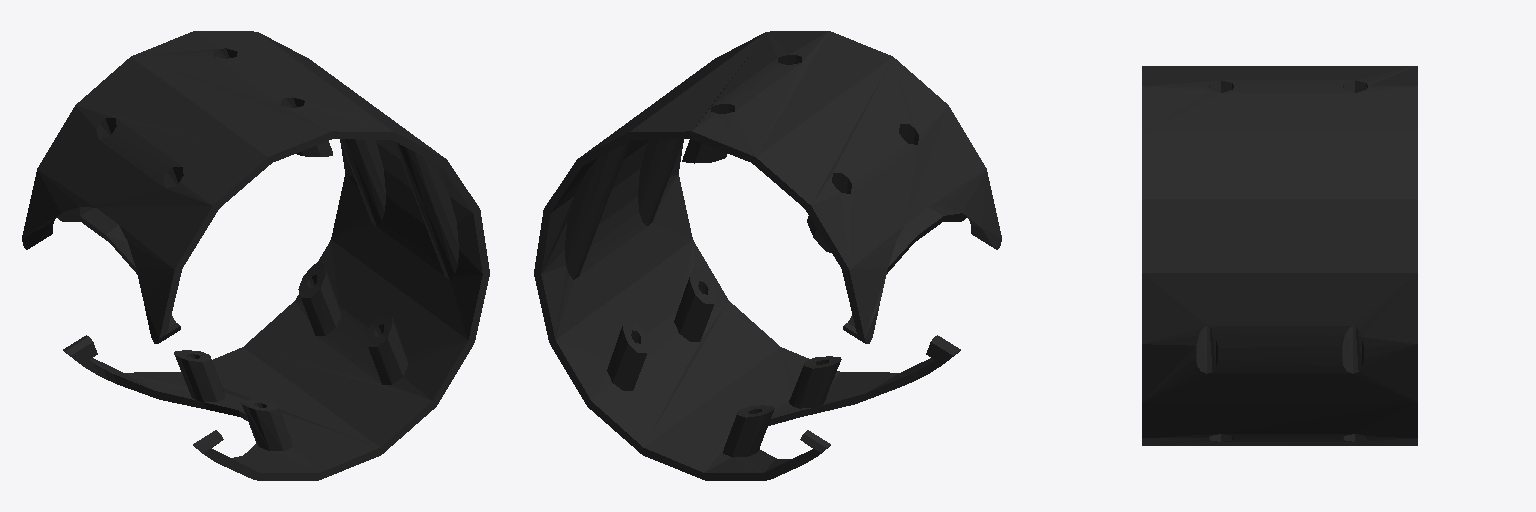
Rendered from asm0001_vrml_09_prt.obj.
3 views of the same model, side by side, from view 1: azimuth 30°, elevation 25°; view 2: azimuth 150°, elevation 25°; view 3: azimuth 270°, elevation 25° (orthographic).
Parts seen in each view (by area): view 1: ShapeIndexedFaceSet.001_ShapeIndexedFaceSet, ShapeIndexedFaceSet_ShapeIndexedFaceSet.025; view 2: ShapeIndexedFaceSet.001_ShapeIndexedFaceSet, ShapeIndexedFaceSet_ShapeIndexedFaceSet.025; view 3: ShapeIndexedFaceSet_ShapeIndexedFaceSet.025, ShapeIndexedFaceSet.001_ShapeIndexedFaceSet.
Part boxes in pixels (x1,y1,x2,y2): ShapeIndexedFaceSet.001_ShapeIndexedFaceSet: (63,140,489,480); ShapeIndexedFaceSet_ShapeIndexedFaceSet.025: (22,31,479,343); ShapeIndexedFaceSet.001_ShapeIndexedFaceSet: (534,140,960,480); ShapeIndexedFaceSet_ShapeIndexedFaceSet.025: (544,31,1001,343); ShapeIndexedFaceSet_ShapeIndexedFaceSet.025: (1142,66,1417,272); ShapeIndexedFaceSet.001_ShapeIndexedFaceSet: (1142,273,1417,445).
Size of the model in its own units: 2.26 by 2.26 by 1.63.